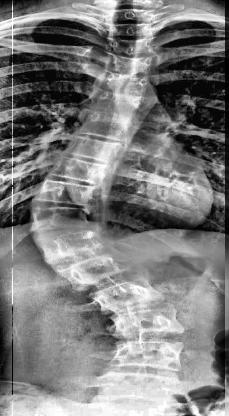Vertebrae: (92, 280, 166, 316), (112, 338, 186, 372), (30, 177, 99, 211), (119, 308, 190, 338), (30, 204, 100, 234), (71, 114, 141, 144), (38, 231, 106, 261), (48, 156, 106, 190), (63, 135, 124, 167), (68, 252, 123, 286), (89, 95, 146, 122), (99, 72, 152, 98), (106, 54, 156, 80), (112, 37, 156, 59), (110, 22, 154, 42)
